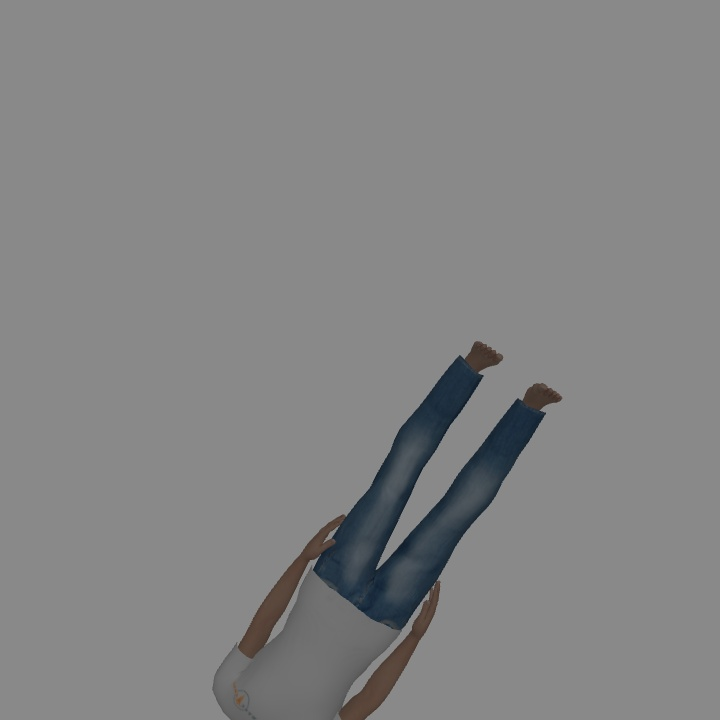victim: (218, 342, 555, 716)
